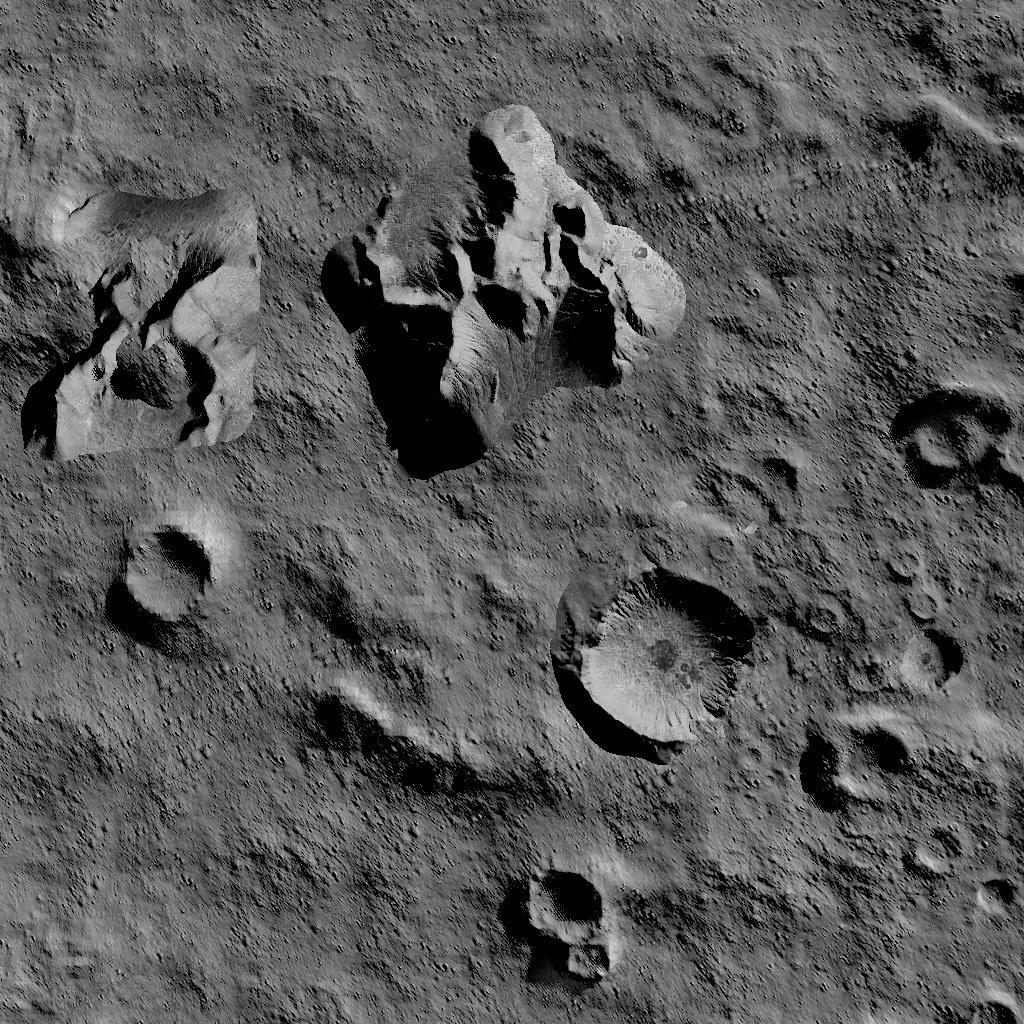Boulders: (318, 104, 688, 474), (1, 186, 285, 468)
Crater: (564, 566, 754, 752), (874, 377, 1024, 505), (117, 520, 226, 628), (795, 722, 919, 812), (522, 868, 616, 986), (888, 628, 967, 697), (931, 992, 1024, 1024), (901, 828, 959, 874), (973, 871, 1016, 916), (801, 600, 844, 638)
Plan surface: (3, 640, 304, 1024), (311, 0, 1024, 95), (712, 116, 866, 464), (0, 0, 296, 176), (627, 839, 872, 1024), (320, 787, 506, 1024)
